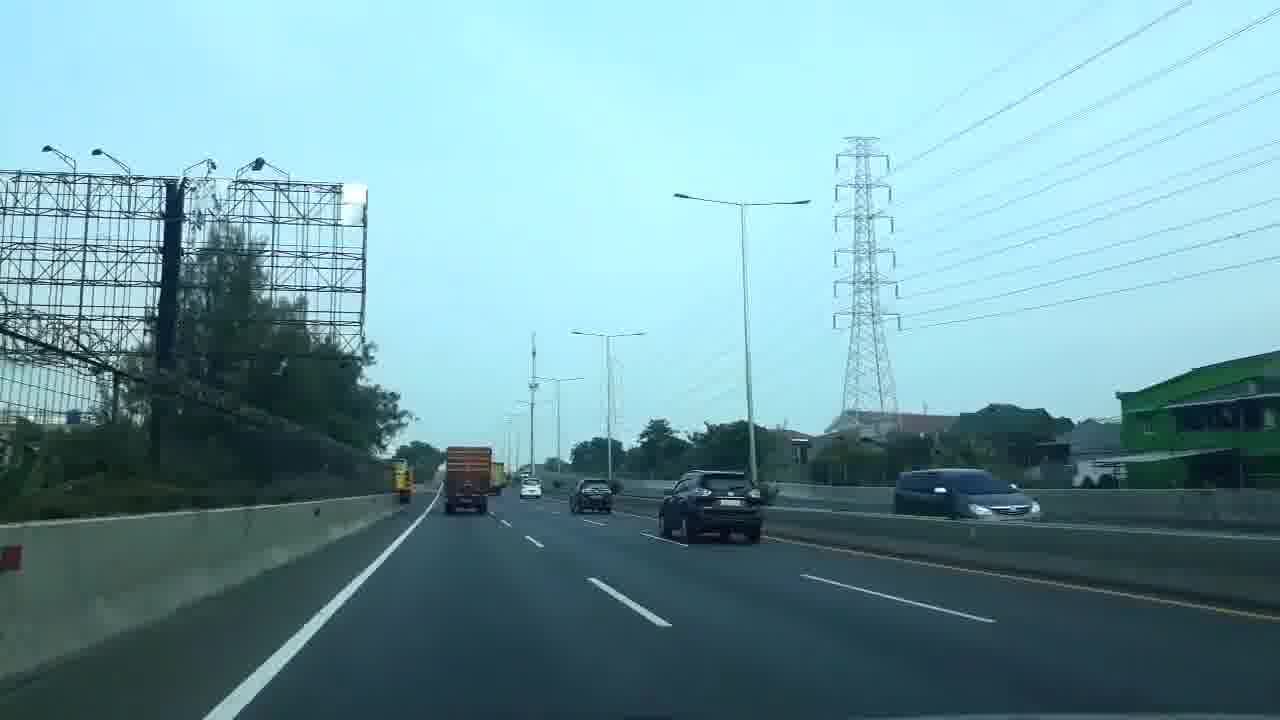plate_positive: (719, 500, 741, 507)
